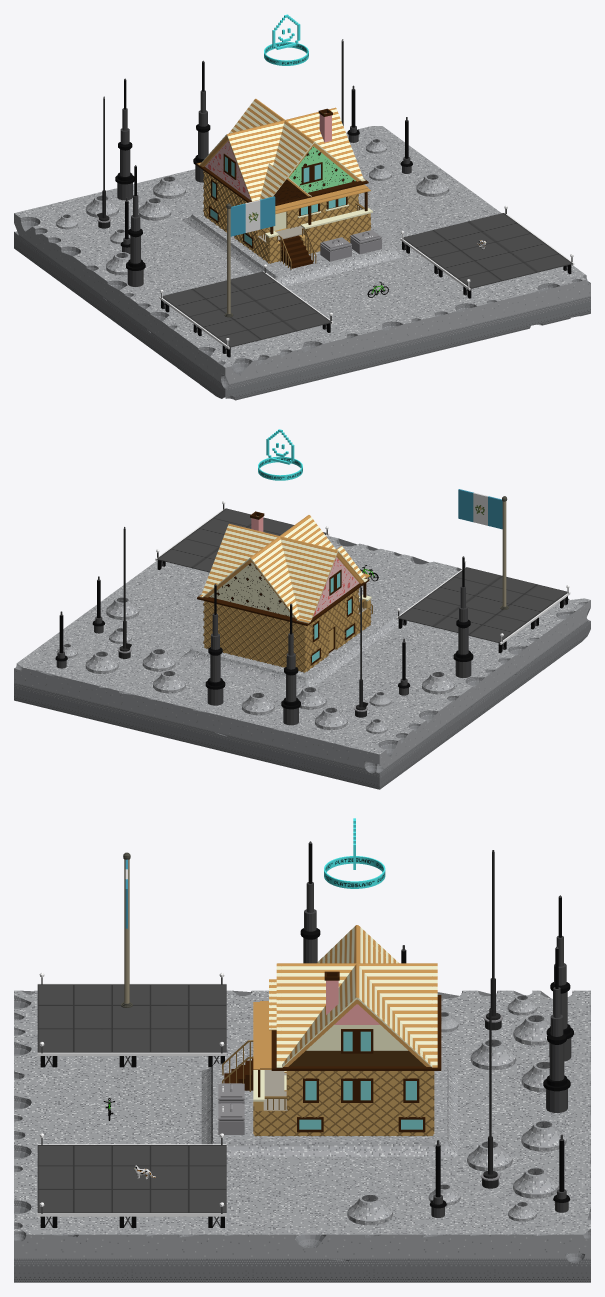
The picture shows the model from 3 angles, top to bottom: view 1: azimuth 30°, elevation 25°; view 2: azimuth 150°, elevation 25°; view 3: azimuth 270°, elevation 25°; orthographic projection. The views are drawn at different scales.
Visible parts, largest first — view 1: Cube.027, Cube.1102, Cube.026, Cube.025, Cube.028, OBJRANDOM_GUATEMALAN_FLAG, Cylinder.021, Cylinder.020, Cylinder.017, TYPE_PREMIUM, Cube.029, Cube.030 (+3 smaller); view 2: Cube.027, Cube.1102, Cube.025, Cube.028, Cube.026, OBJRANDOM_GUATEMALAN_FLAG, Cylinder.017, Cylinder.021, Cylinder.020, TYPE_PREMIUM, Cylinder.030, Cylinder.029 (+7 smaller); view 3: Cube.027, Cube.1102, Cube.026, Cube.025, Cube.028, Cylinder.017, Cylinder.020, Cylinder.021, TYPE_PREMIUM, Cylinder.033, Cylinder.031, Cylinder.026 (+10 smaller).
Boxes of the visible parts, x1,y1,x2,y2 form: Cube.027: [14, 126, 590, 400]; Cube.1102: [196, 98, 372, 269]; Cube.026: [400, 205, 574, 298]; Cube.025: [159, 264, 333, 357]; Cube.028: [182, 211, 403, 286]; OBJRANDOM_GUATEMALAN_FLAG: [224, 196, 275, 317]; Cylinder.021: [126, 165, 145, 286]; Cylinder.020: [115, 78, 134, 200]; Cylinder.017: [193, 60, 210, 182]; TYPE_PREMIUM: [264, 14, 308, 65]; Cube.029: [320, 237, 351, 261]; Cube.030: [350, 230, 381, 254]; Cube.027: [14, 536, 590, 789]; Cube.1102: [197, 511, 372, 672]; Cube.025: [396, 560, 570, 653]; Cube.028: [181, 610, 398, 688]; Cube.026: [155, 501, 329, 572]; OBJRANDOM_GUATEMALAN_FLAG: [458, 489, 508, 609]; Cylinder.017: [205, 583, 225, 705]; Cylinder.021: [453, 556, 473, 677]; Cylinder.020: [281, 603, 300, 725]; TYPE_PREMIUM: [258, 429, 302, 480]; Cylinder.030: [142, 648, 175, 671]; Cylinder.029: [153, 670, 185, 693]; Cube.027: [14, 990, 590, 1282]; Cube.1102: [222, 925, 441, 1136]; Cube.026: [37, 1133, 226, 1227]; Cube.025: [37, 973, 226, 1067]; Cube.028: [201, 1063, 457, 1156]; Cylinder.017: [543, 946, 570, 1112]; Cylinder.020: [546, 895, 573, 1061]; Cylinder.021: [300, 841, 320, 963]; TYPE_PREMIUM: [324, 818, 385, 888]; Cylinder.033: [347, 1194, 392, 1225]; Cylinder.031: [513, 1167, 558, 1198]; Cylinder.026: [470, 1038, 516, 1069].
Bounding box in the file's own units: 4000 × 2804 × 4000.
Materials: 37 (6 with a texture image).
